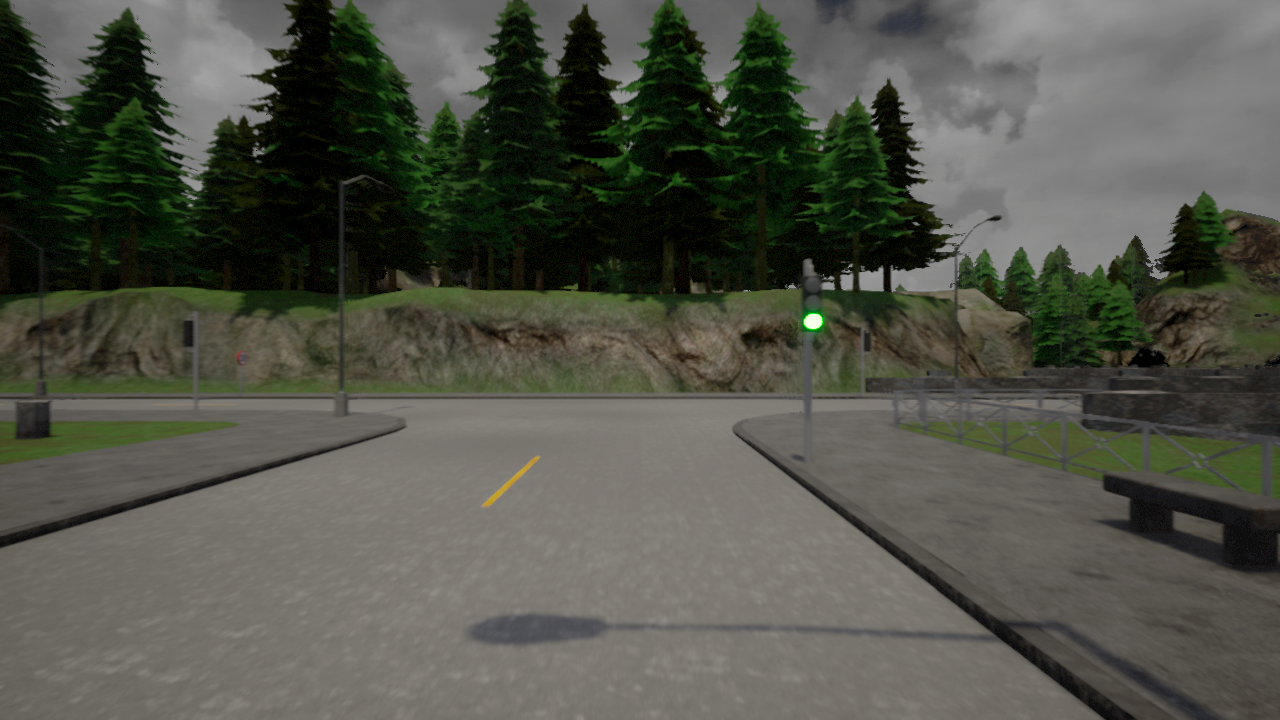green: (801, 272, 828, 333)
